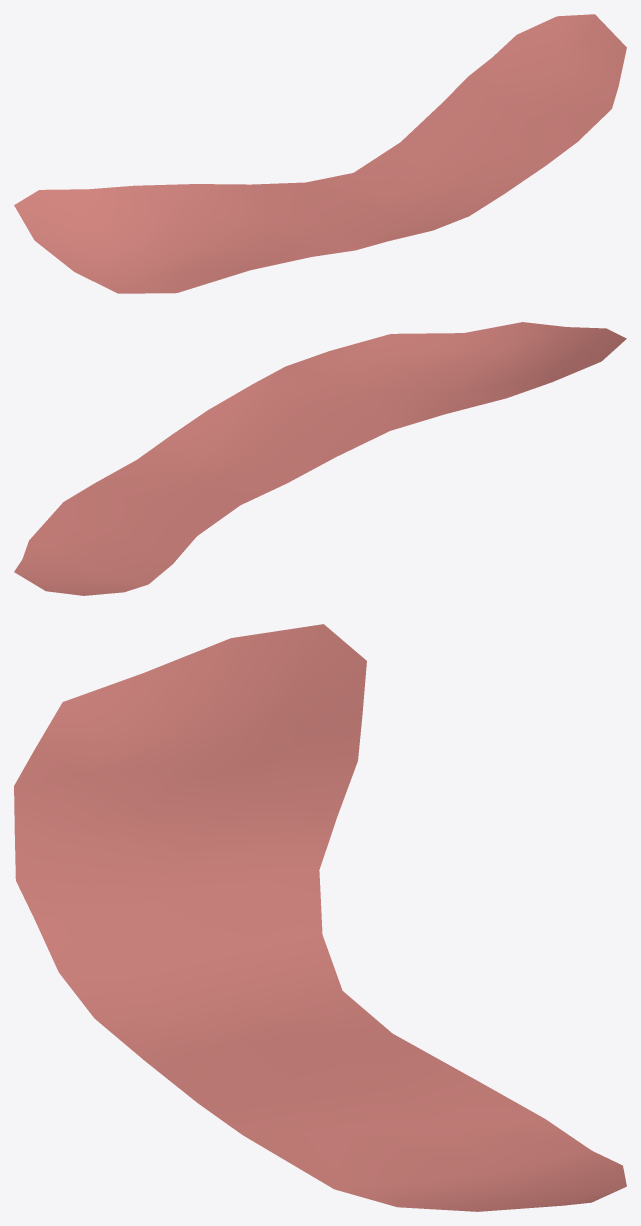
3 views of the same model, one above another, from view 1: azimuth 30°, elevation 25°; view 2: azimuth 210°, elevation 25°; view 3: azimuth 270°, elevation 25° (orthographic). The views are drawn at different scales.
Visible parts, largest first — view 1: ZA_88c20d2f4a9822f0; view 2: ZA_88c20d2f4a9822f0; view 3: ZA_88c20d2f4a9822f0.
Part boxes in pixels (x1=…): ZA_88c20d2f4a9822f0: x1=14, y1=14, x2=626, y2=293; ZA_88c20d2f4a9822f0: x1=14, y1=322, x2=626, y2=595; ZA_88c20d2f4a9822f0: x1=14, y1=624, x2=626, y2=1211.
Bounding box in the file's own units: 0.0693 × 0.00575 × 0.0336.
